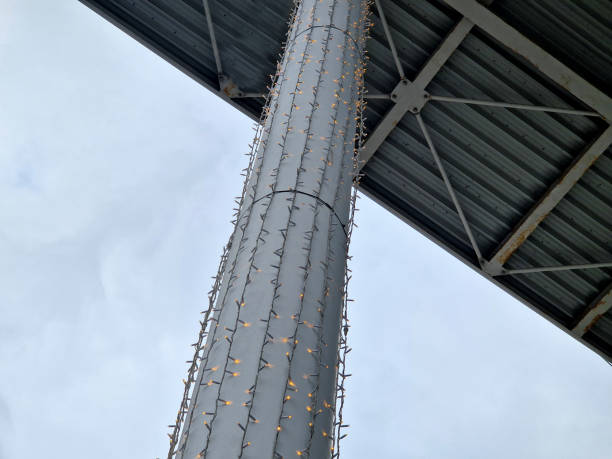light_pole: (194, 0, 372, 459)
